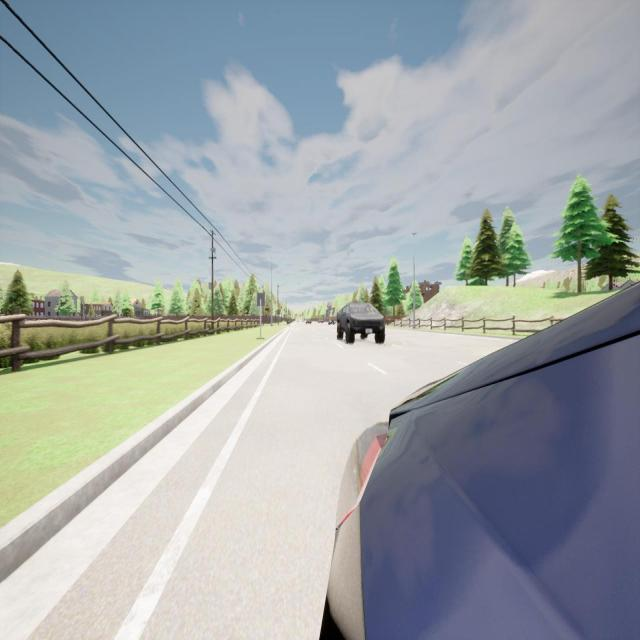Traffic_Signs: (257, 293, 265, 307)
Vehicle: (328, 284, 640, 637), (336, 303, 385, 344), (305, 319, 312, 324), (328, 320, 335, 325), (317, 318, 323, 323)
